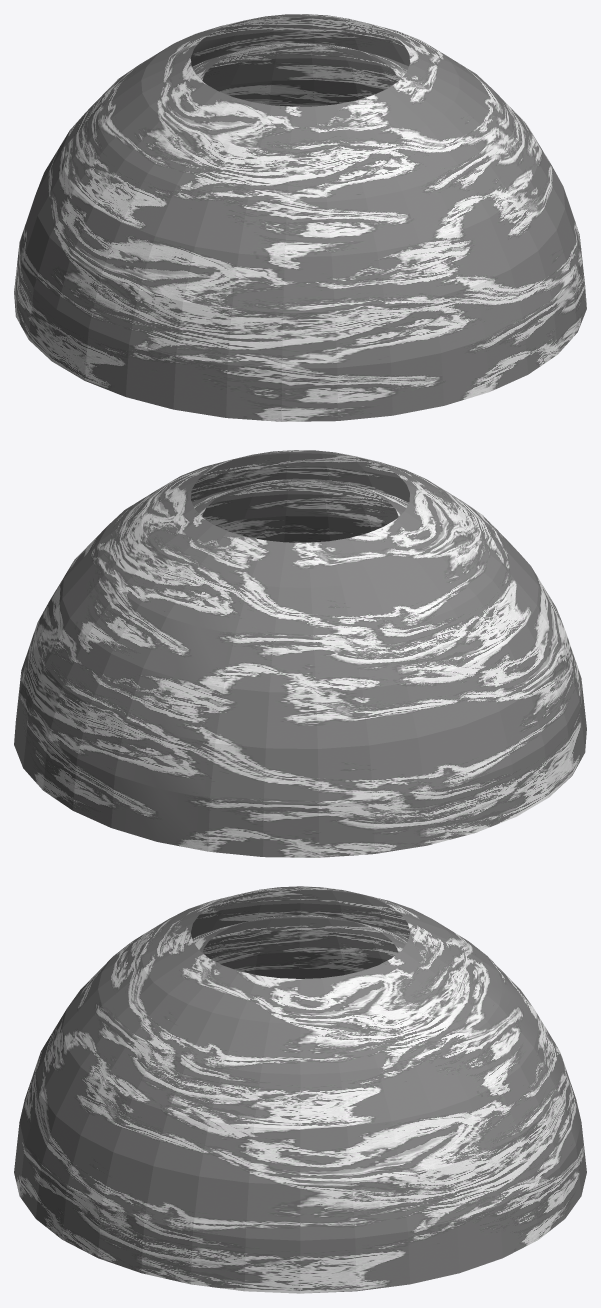
The model's file is HalfSphere.FBX.
3 views of the same model, one above another, from view 1: azimuth 30°, elevation 25°; view 2: azimuth 150°, elevation 25°; view 3: azimuth 270°, elevation 25° (orthographic).
Parts seen in each view (by area): view 1: FlashHealSphere_sm; view 2: FlashHealSphere_sm; view 3: FlashHealSphere_sm.
Part boxes in pixels (left/top/right/bottom): FlashHealSphere_sm: left=14, top=14, right=586, bottom=421; FlashHealSphere_sm: left=14, top=450, right=586, bottom=857; FlashHealSphere_sm: left=14, top=886, right=586, bottom=1293.
Size of the model in its own units: 10.08 by 4.66 by 10.08.
